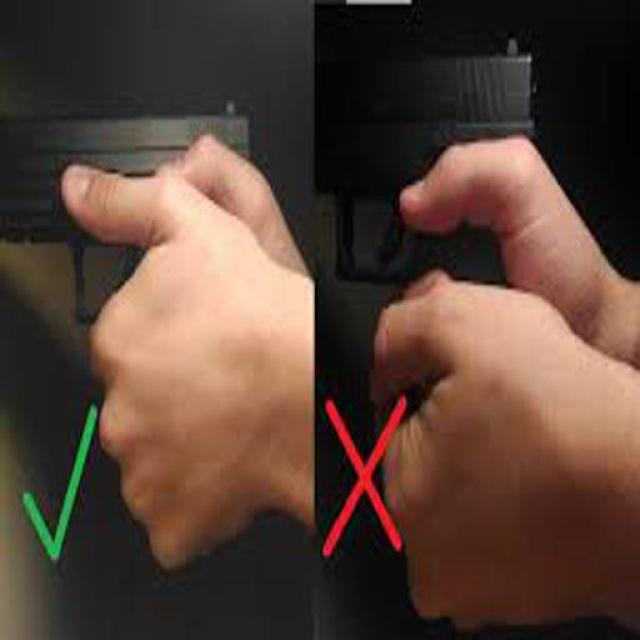pistol: (310, 23, 544, 324), (1, 87, 251, 335)
